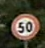limite 50: (9, 12, 40, 40)
